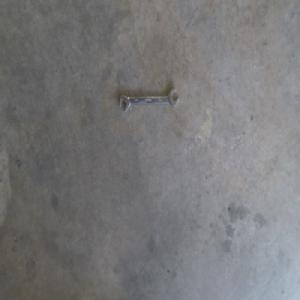Wrench: (120, 88, 177, 111)
